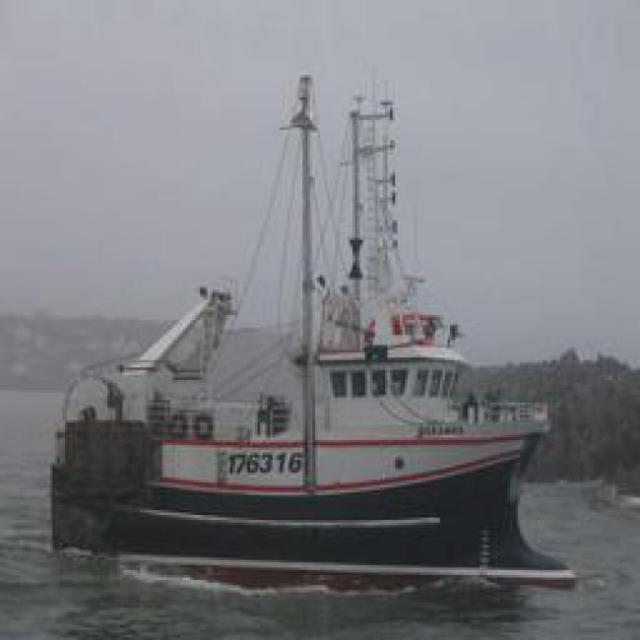boat: (45, 317, 587, 595)
